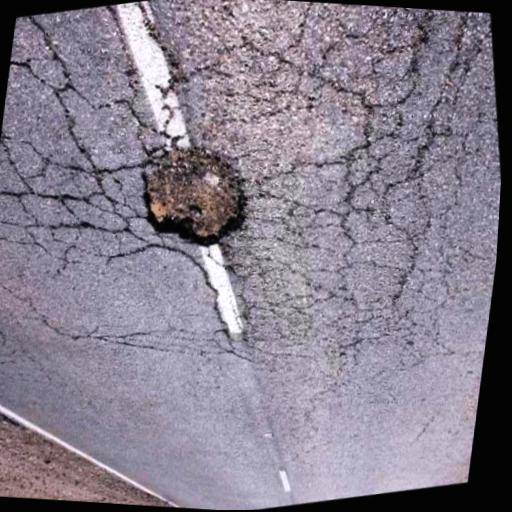pothole: (142, 143, 243, 245)
